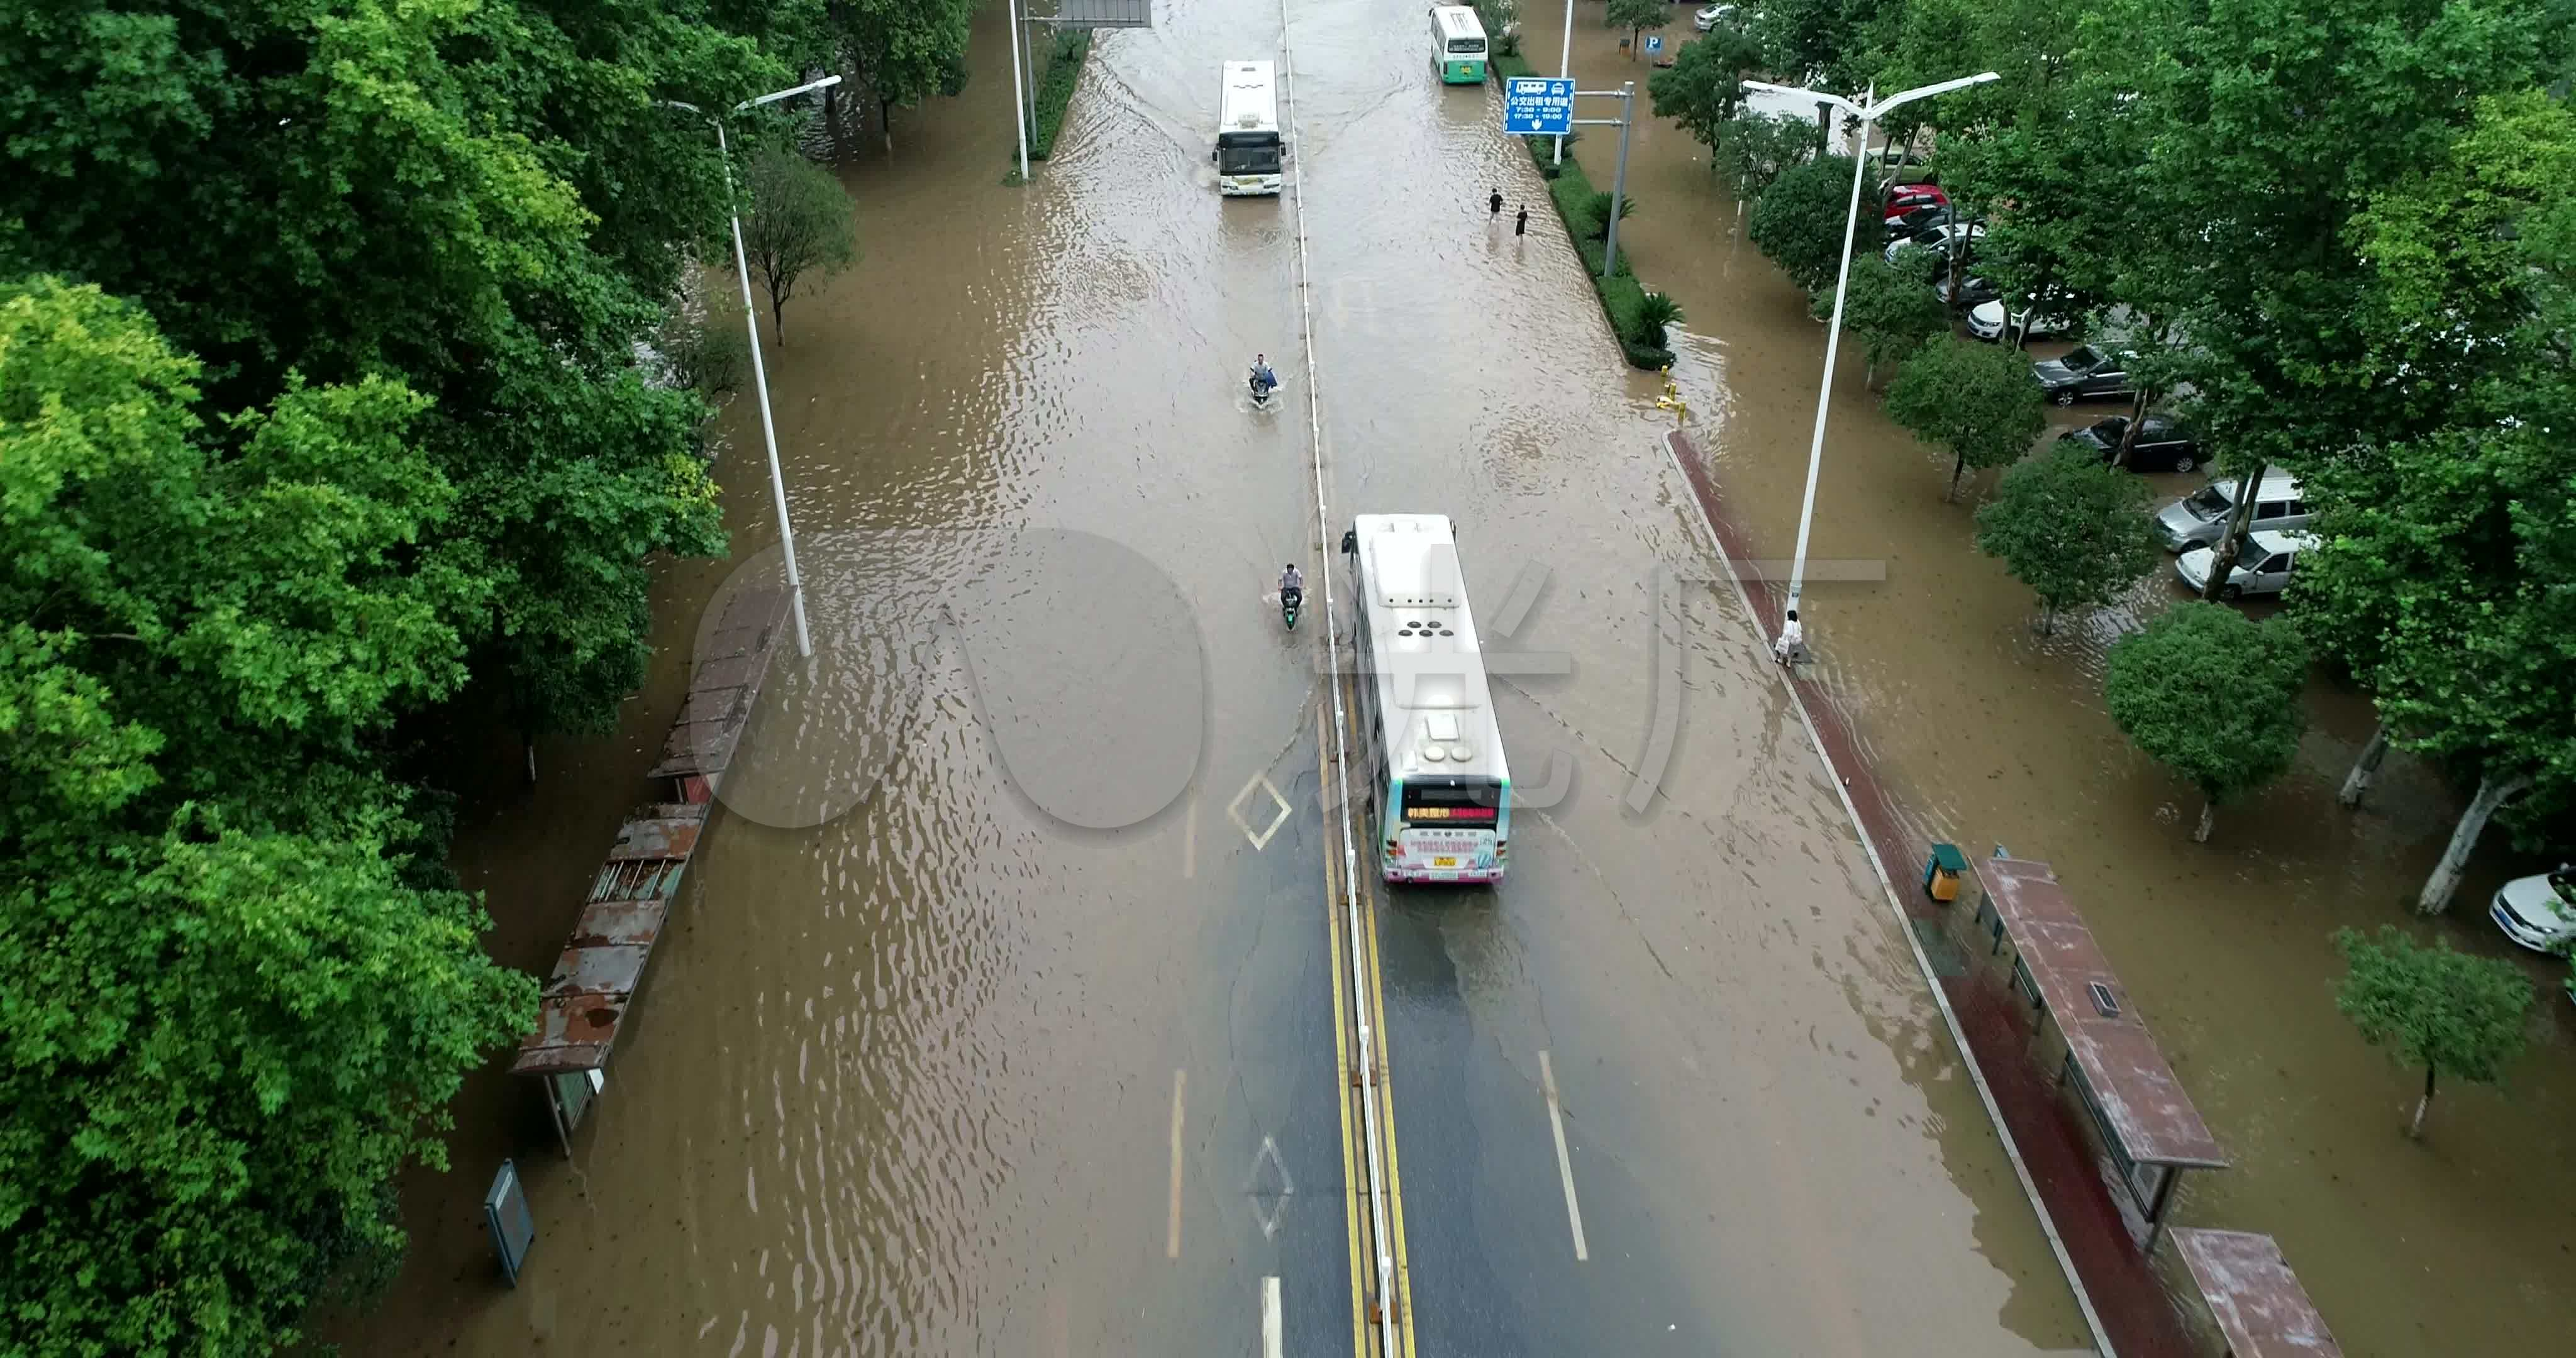puddle: (750, 184, 1799, 1358)
